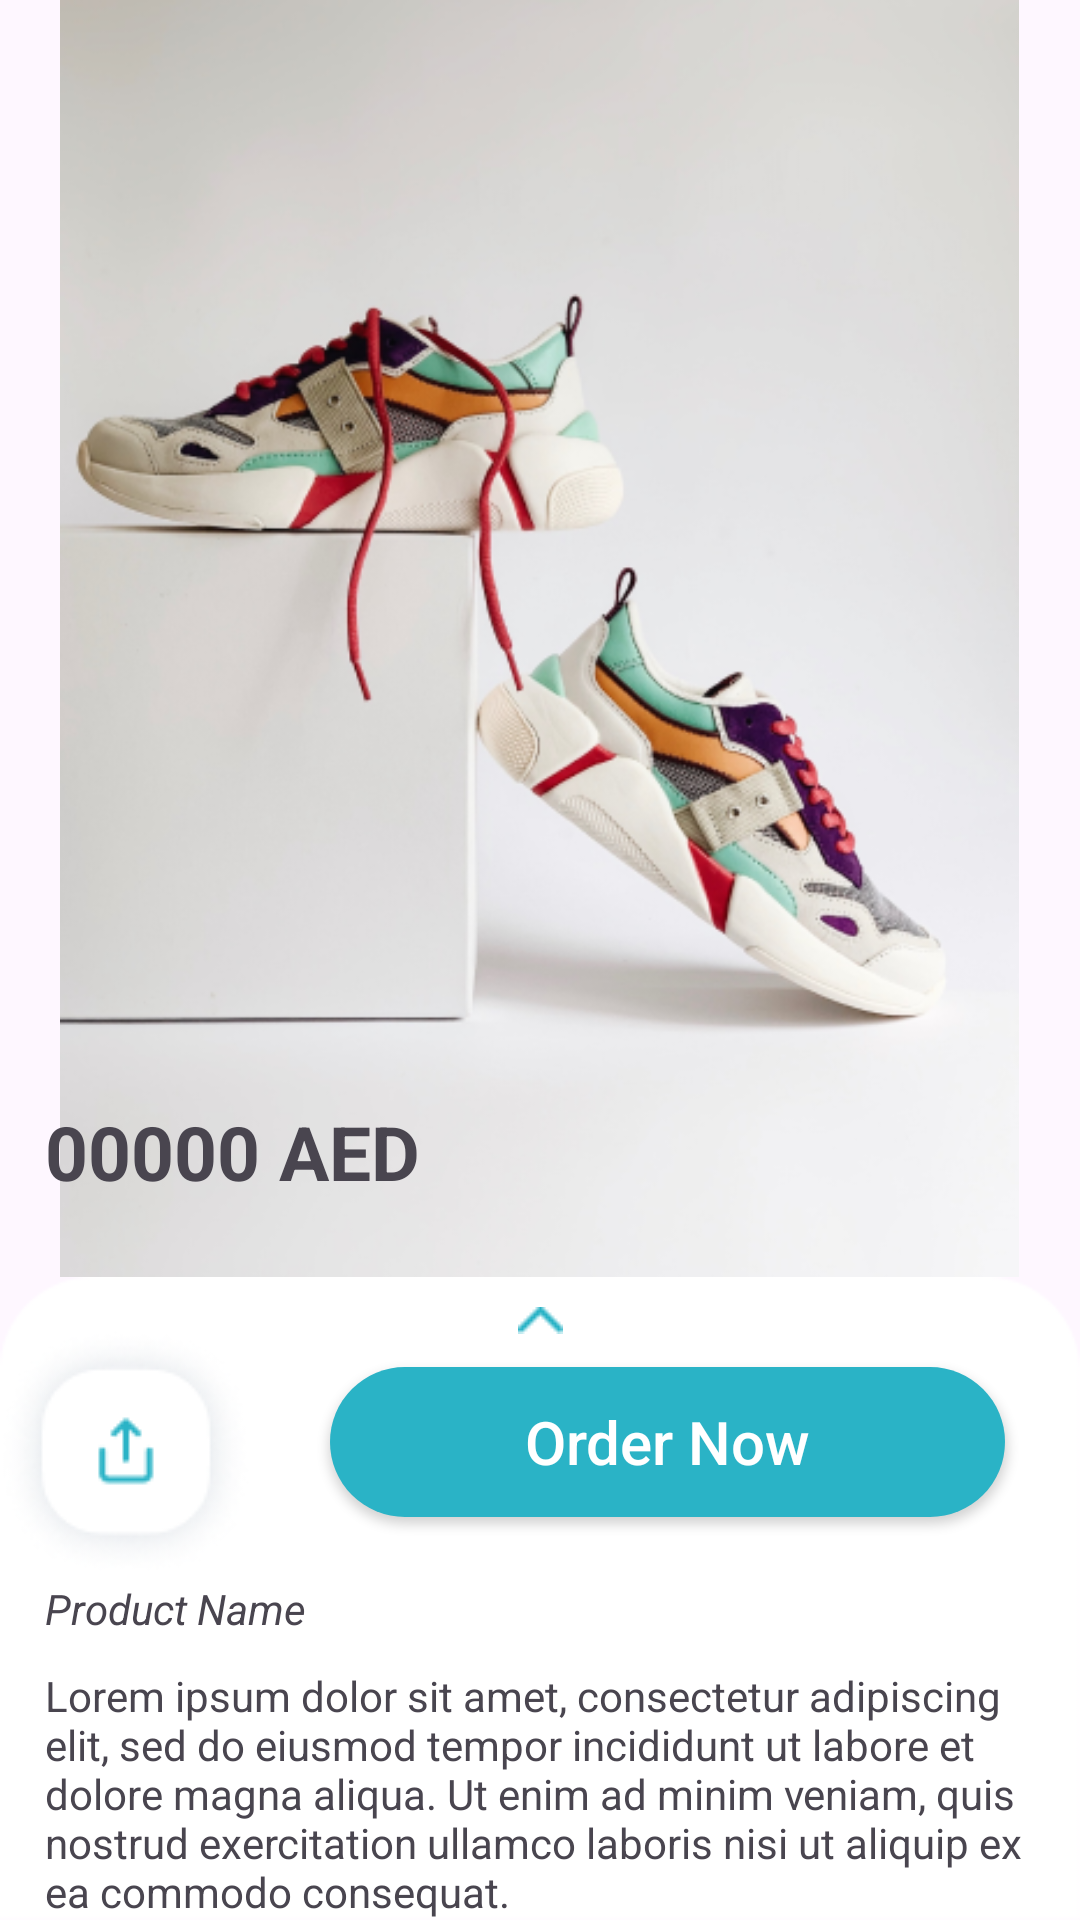

Locate icon controls on the screen. Image size 1080w x 1920h, boxes as [x1,y1,x2,y2].
share: [98,1417,154,1485]
